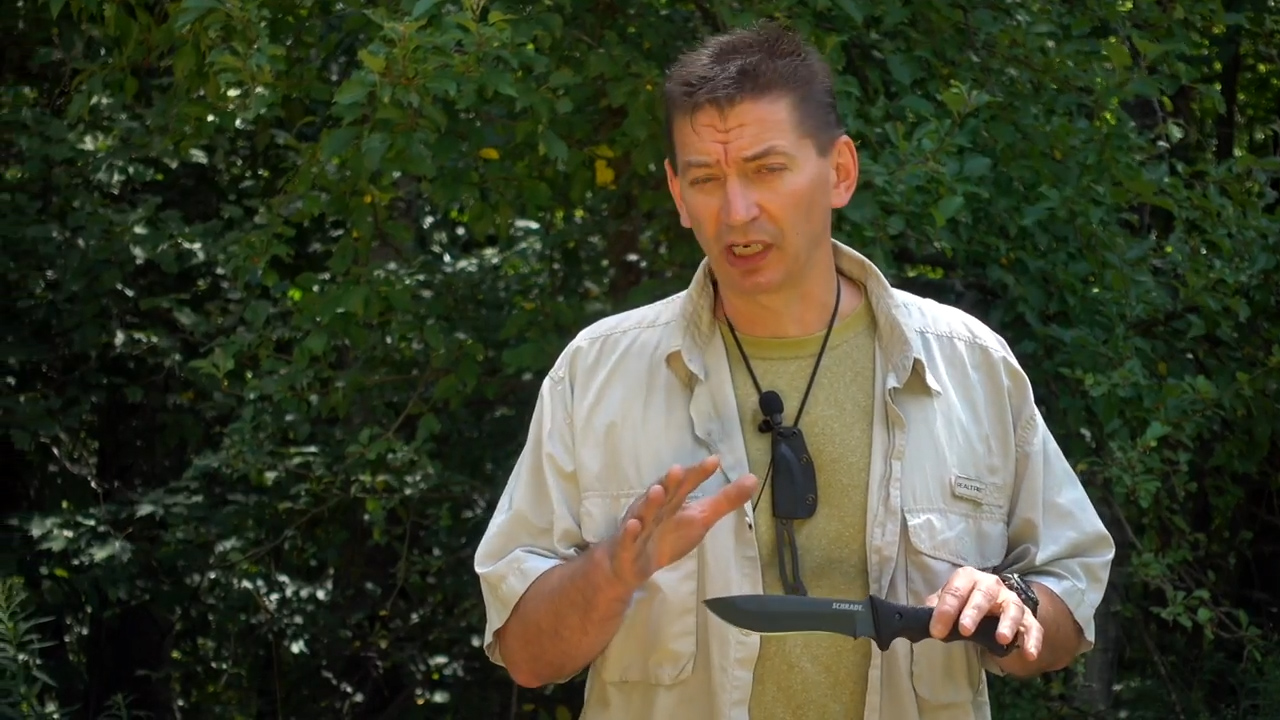knife: (696, 565, 1050, 674)
